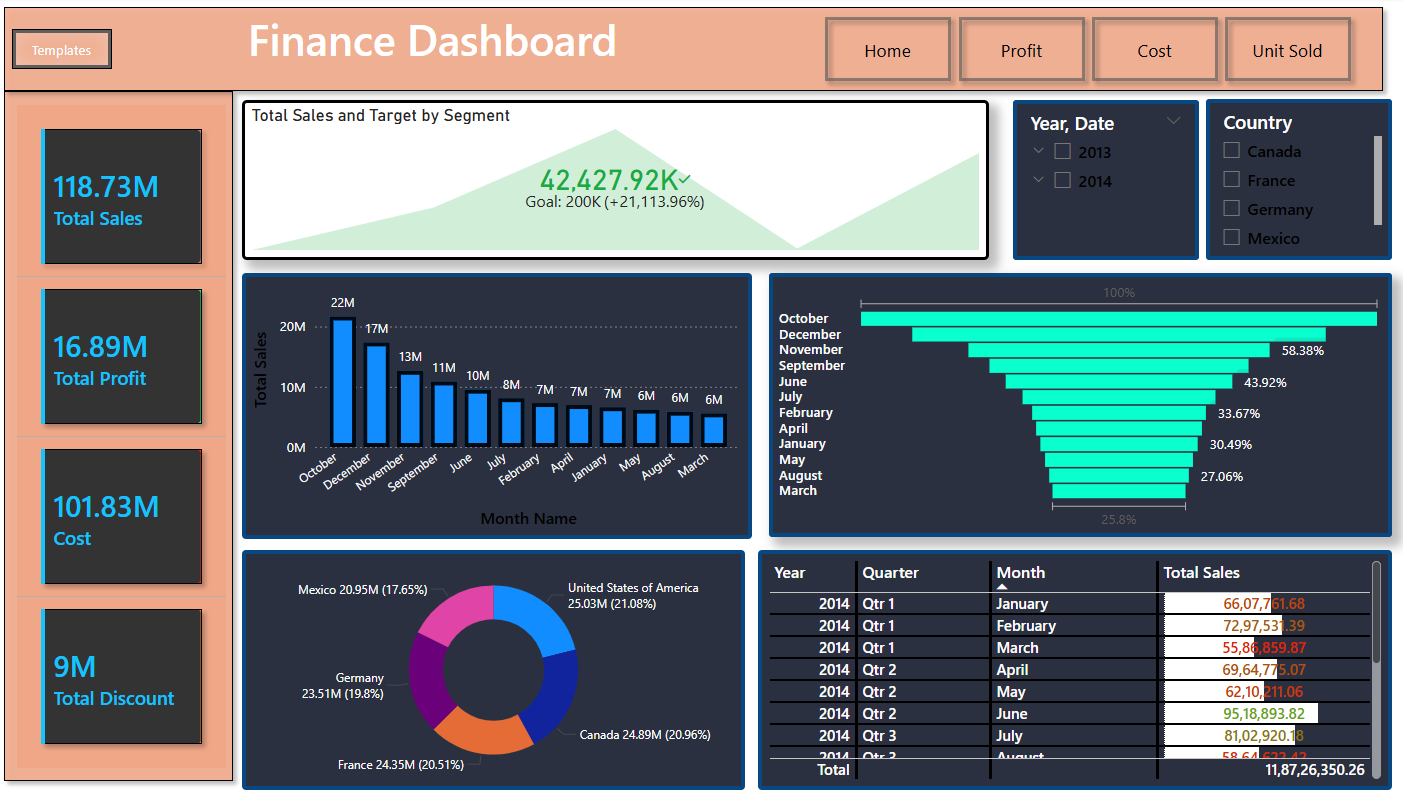

The page's visual inventory and layout, read from the dashboard file:
{"tool":"powerbi","page":{"name":"Q9.DashBoard","canvas":[1408,800],"ordinal":8},"visuals":[{"type":"shape","box":[0,84,247,708],"z":0},{"type":"shape","box":[0,0,1397,102],"z":1000},{"type":"cardVisual","fields":{"Data":["financials.Total Sales","financials.Total Profit","financials.Cost","financials.Total Discount"]},"box":[17,102,219,675],"z":2000},{"type":"columnChart","fields":{"Category":["financials.Month Name"],"Y":["financials.Total Sales"]},"box":[247,275,510,266],"z":3000},{"type":"funnel","fields":{"Category":["financials.Month Name"],"Y":["financials.Total Sales"]},"box":[774,275,623,264],"z":4000},{"type":"textbox","box":[114,7,660,85],"z":5000},{"type":"slicer","fields":{"Values":["financials.Year","financials.Date"]},"box":[1018,102,186,160],"z":6000},{"type":"actionButton","box":[821,10,144,82],"z":7000},{"type":"actionButton","box":[955,10,144,82],"z":8000},{"type":"actionButton","box":[1088,10,144,82],"z":9000},{"type":"actionButton","box":[1221,10,144,82],"z":10000},{"type":"donutChart","fields":{"Y":["financials.Total Sales"],"Category":["financials.Country"]},"box":[247,552,503,240],"z":11000},{"type":"tableEx","fields":{"Values":["Financial Calender.Date.Variation.Date Hierarchy.Year","Financial Calender.Date.Variation.Date Hierarchy.Quarter","Financial Calender.Date.Variation.Date Hierarchy.Month","financials.Total Sales"]},"box":[763,552,634,240],"z":12000},{"type":"slicer","fields":{"Values":["financials.Country"]},"box":[1211,101,186,161],"z":13000},{"type":"kpi","fields":{"TrendLine":["financials.Segment"],"Goal":["financials.Target"],"Indicator":["financials.Total Sales"]},"box":[247,102,747,160],"z":14000},{"type":"actionButton","box":[17,31,100,40],"z":14001}]}

Visuals, with their boxes in screenshot pixels (x1, y1, x2, y2), scaled from the page's 1408x800 canvas onto the 1403x793 screenshot:
shape: (0, 83, 246, 785)
shape: (0, 0, 1392, 101)
cardVisual - financials.Total Sales x financials.Total Profit: (17, 101, 235, 770)
columnChart - financials.Month Name x financials.Total Sales: (246, 273, 754, 536)
funnel - financials.Month Name x financials.Total Sales: (771, 273, 1392, 534)
textbox: (114, 7, 771, 91)
slicer - financials.Year x financials.Date: (1014, 101, 1200, 260)
actionButton: (818, 10, 962, 91)
actionButton: (952, 10, 1095, 91)
actionButton: (1084, 10, 1228, 91)
actionButton: (1217, 10, 1360, 91)
donutChart - financials.Total Sales x financials.Country: (246, 547, 747, 785)
tableEx - Financial Calender.Date.Variation.Date Hierarchy.Year x Financial Calender.Date.Variation.Date Hierarchy.Quarter: (760, 547, 1392, 785)
slicer - financials.Country: (1207, 100, 1392, 260)
kpi - financials.Segment x financials.Target: (246, 101, 990, 260)
actionButton: (17, 31, 117, 70)
